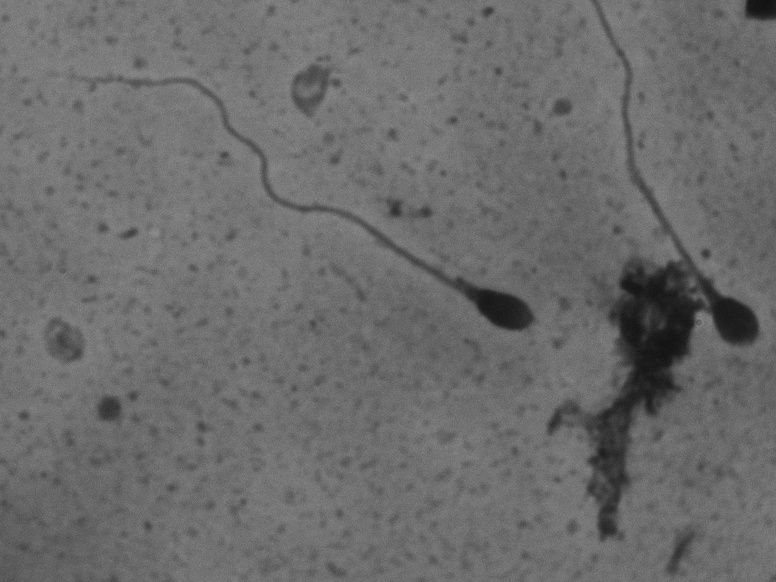Normal: (49, 44, 541, 376), (579, 10, 772, 370)
